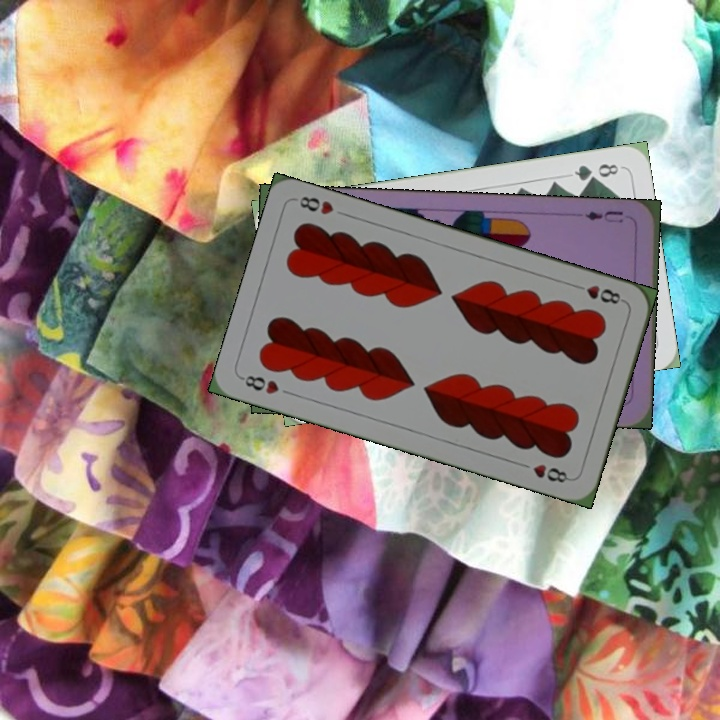EU: (580, 206, 633, 226)
G8: (570, 159, 624, 184)
H8: (569, 280, 627, 307), (237, 371, 282, 397)
